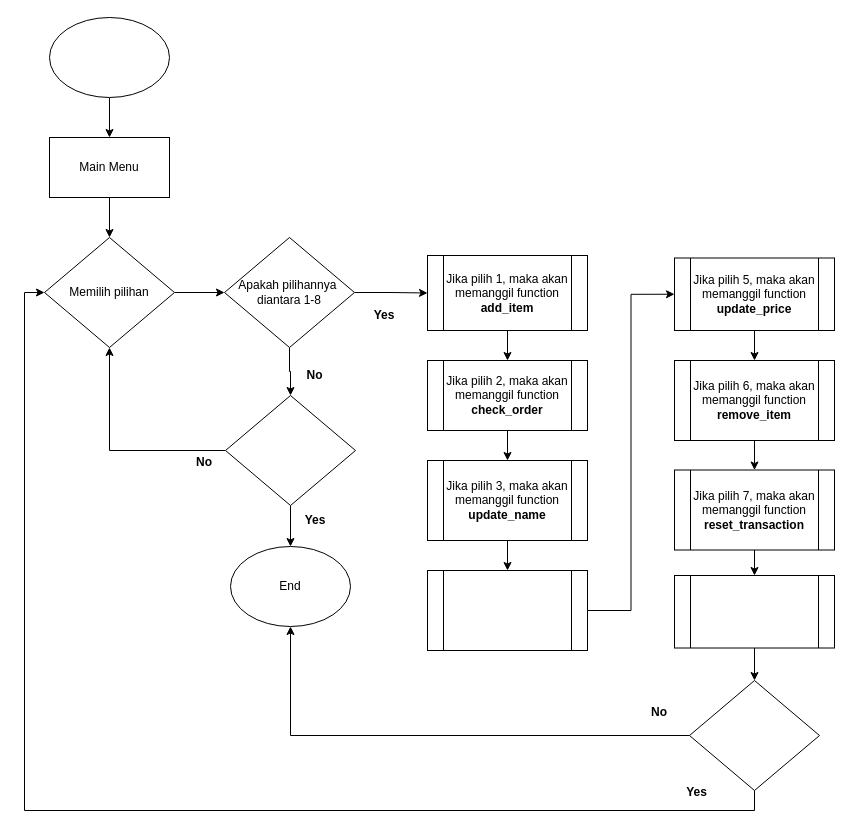
Some shapes in this 852 by 836 pixel diagram are drawn without their labels. The shapes that lost their labels are listed below. From the top down, each one's centre as x and y in pixels, then its label:
the point at 109,57: Start
the point at 290,450: Apakah pilihannya 9
the point at 507,610: Jika pilih 4, maka akan memanggil function update_qty
the point at 754,611: Jika pilih 8, maka akan memanggil function total_price
the point at 754,735: Apakah ingin melanjutkan belanja
